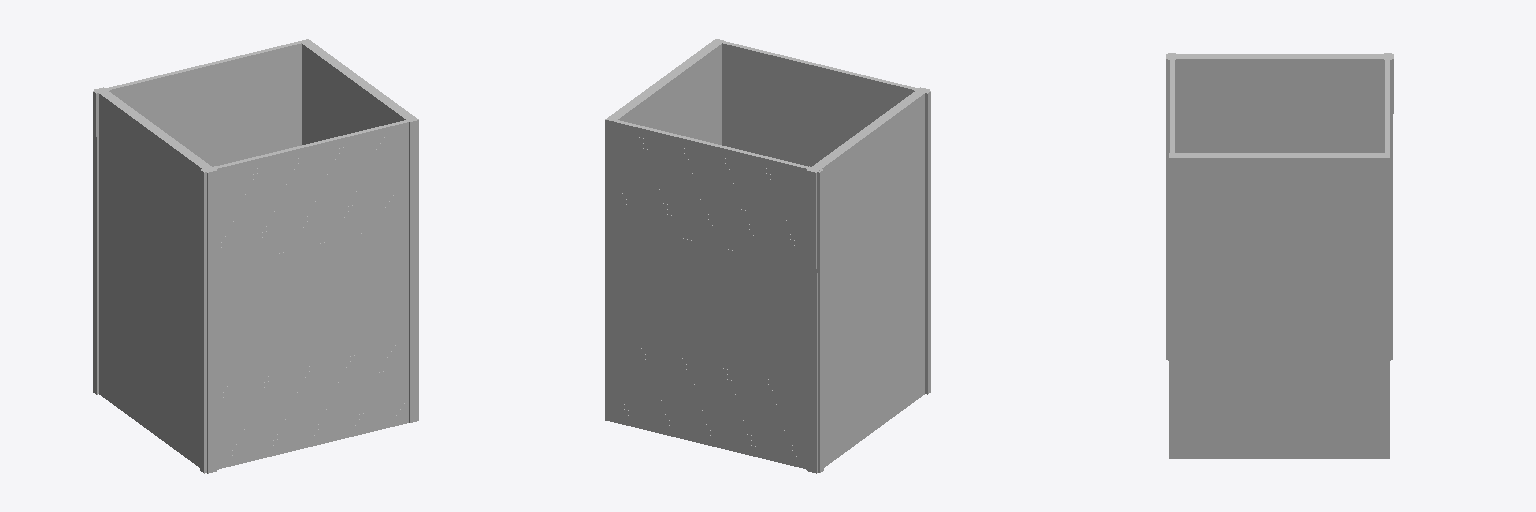
The model's file is nhatrai.obj.
3 views of the same model, side by side, from view 1: azimuth 30°, elevation 25°; view 2: azimuth 150°, elevation 25°; view 3: azimuth 270°, elevation 25° (orthographic).
Visible parts, largest first — view 1: obj4, obj50, obj55, obj51, obj12, obj1, obj2, obj53, obj3; view 2: obj55, obj50, obj4, obj51, obj63, obj52, obj53, obj2; view 3: obj51, obj50, obj1, obj52.
Part boxes in pixels (left/top/right/bottom): obj4: left=215, top=120, right=408, bottom=468; obj50: left=97, top=89, right=212, bottom=466; obj55: left=108, top=41, right=301, bottom=166; obj51: left=299, top=39, right=418, bottom=422; obj12: left=268, top=235, right=363, bottom=354; obj1: left=204, top=167, right=216, bottom=473; obj2: left=200, top=169, right=206, bottom=473; obj53: left=93, top=90, right=98, bottom=394; obj3: left=213, top=166, right=218, bottom=469; obj55: left=615, top=120, right=807, bottom=468; obj50: left=809, top=88, right=927, bottom=467; obj4: left=722, top=41, right=915, bottom=166; obj51: left=605, top=39, right=724, bottom=422; obj63: left=660, top=234, right=755, bottom=354; obj52: left=807, top=169, right=817, bottom=473; obj53: left=817, top=169, right=823, bottom=472; obj2: left=925, top=90, right=930, bottom=394; obj51: left=1169, top=153, right=1389, bottom=458; obj50: left=1169, top=54, right=1389, bottom=152; obj1: left=1166, top=54, right=1176, bottom=359; obj52: left=1382, top=54, right=1393, bottom=359.
Size of the model in its own units: 224 by 300 by 205.